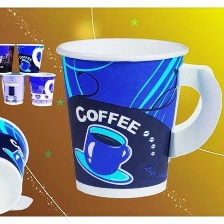paper_cup: (50, 32, 224, 203), (25, 68, 57, 109), (14, 39, 47, 76), (0, 68, 28, 108), (0, 38, 17, 77)
